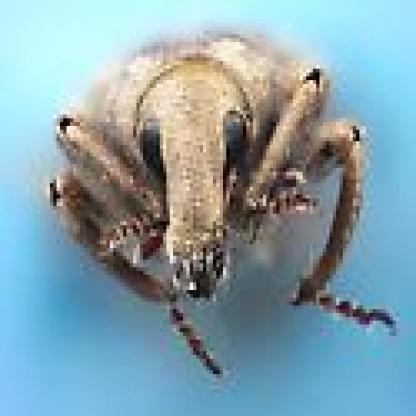rice-bug: (49, 30, 395, 376)
